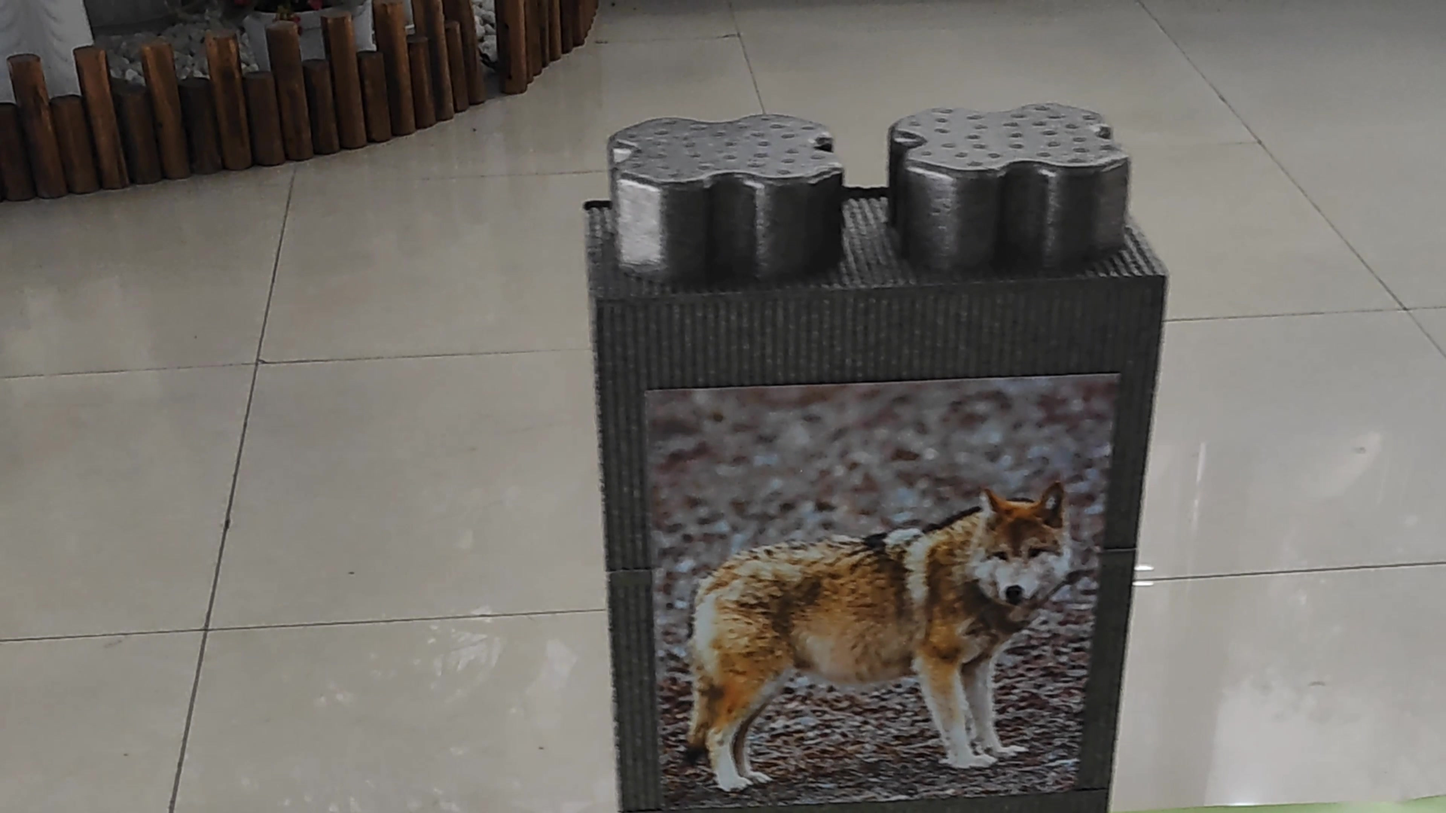wolf: (662, 425, 1061, 781)
